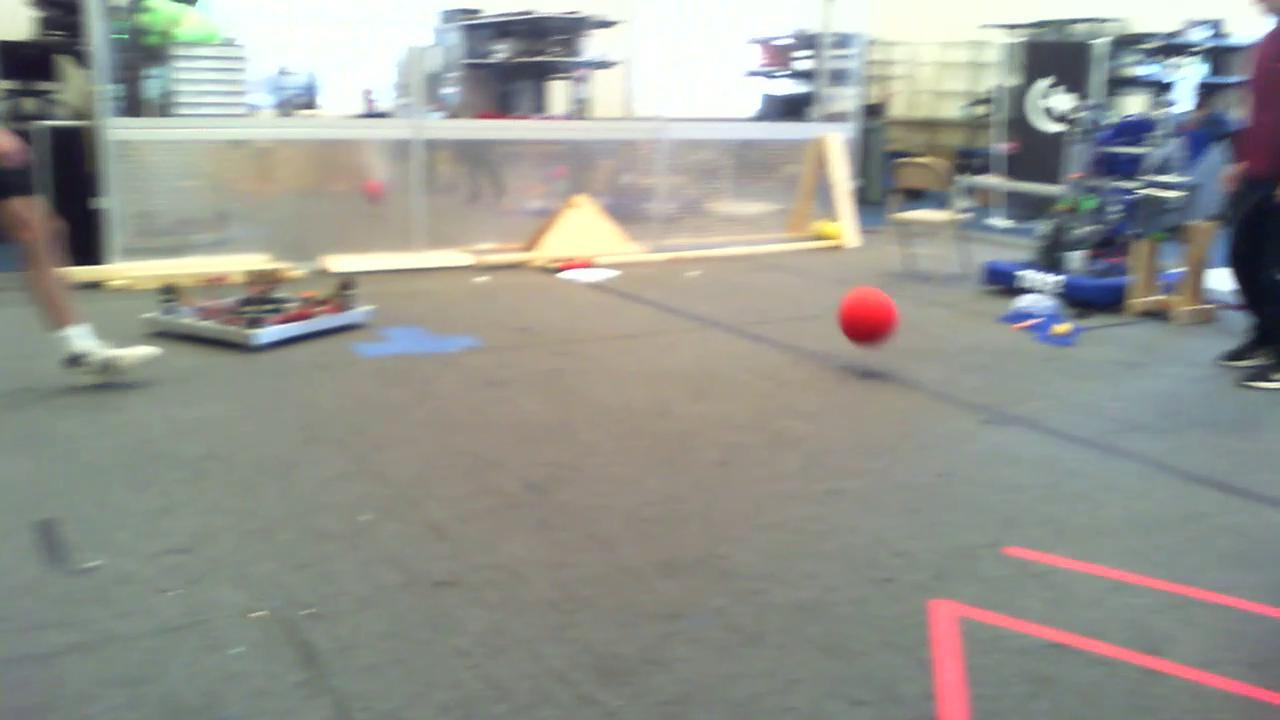Red_Ball: (837, 286, 894, 349)
